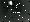person: (8, 3, 16, 13)
